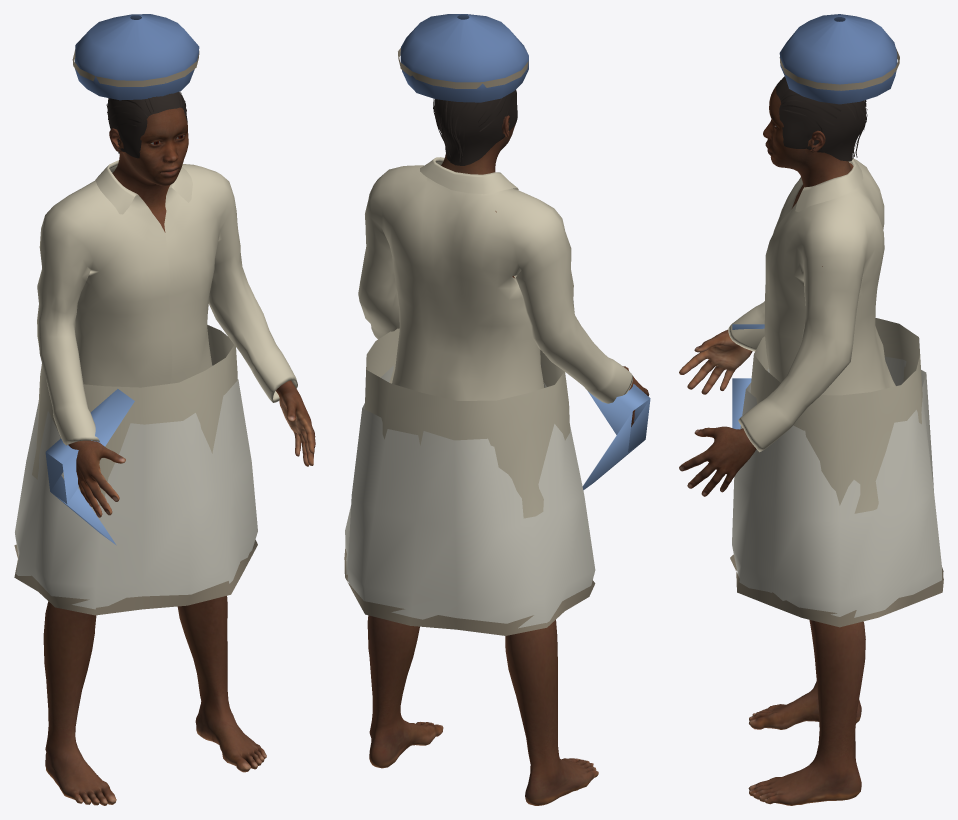
Rendered from village_weaver_assistant.glb.
3 renders of one model, left to right at view 1: azimuth 30°, elevation 25°; view 2: azimuth 150°, elevation 25°; view 3: azimuth 270°, elevation 25°, orthographic. The views are drawn at different scales.
Visible parts, largest first — view 1: Fitted cotton upper base_full_body_static, Knee length wrapped dhoti_full_body_static, village_weaver_assistant_MakeHuman_body_full_body_static, Soft cotton head wrap_full_body_static, Kurta loose lower panel_full_body_static, Weaver assistant folded cloth_full_body_static, Dhoti woven border_full_body_static, Farmer_hair_full_body_static, Head wrap fold_full_body_static; view 2: Fitted cotton upper base_full_body_static, Knee length wrapped dhoti_full_body_static, village_weaver_assistant_MakeHuman_body_full_body_static, Kurta loose lower panel_full_body_static, Soft cotton head wrap_full_body_static, Farmer_hair_full_body_static, Weaver assistant folded cloth_full_body_static, Dhoti woven border_full_body_static, Head wrap fold_full_body_static; view 3: Knee length wrapped dhoti_full_body_static, Fitted cotton upper base_full_body_static, village_weaver_assistant_MakeHuman_body_full_body_static, Kurta loose lower panel_full_body_static, Soft cotton head wrap_full_body_static, Farmer_hair_full_body_static, Dhoti woven border_full_body_static, Head wrap fold_full_body_static, Weaver assistant folded cloth_full_body_static.
Part boxes in pixels (bbox=[...]): Fitted cotton upper base_full_body_static: bbox=[37, 160, 297, 445]; Knee length wrapped dhoti_full_body_static: bbox=[15, 364, 257, 609]; village_weaver_assistant_MakeHuman_body_full_body_static: bbox=[43, 107, 315, 805]; Soft cotton head wrap_full_body_static: bbox=[75, 14, 199, 100]; Kurta loose lower panel_full_body_static: bbox=[32, 325, 237, 505]; Weaver assistant folded cloth_full_body_static: bbox=[45, 389, 134, 545]; Dhoti woven border_full_body_static: bbox=[14, 540, 257, 615]; Farmer_hair_full_body_static: bbox=[106, 91, 188, 158]; Head wrap fold_full_body_static: bbox=[72, 49, 199, 86]; Fitted cotton upper base_full_body_static: bbox=[358, 157, 632, 403]; Knee length wrapped dhoti_full_body_static: bbox=[345, 365, 595, 628]; village_weaver_assistant_MakeHuman_body_full_body_static: bbox=[367, 115, 649, 805]; Kurta loose lower panel_full_body_static: bbox=[364, 328, 569, 518]; Soft cotton head wrap_full_body_static: bbox=[400, 14, 528, 102]; Farmer_hair_full_body_static: bbox=[433, 90, 517, 165]; Weaver assistant folded cloth_full_body_static: bbox=[582, 384, 650, 490]; Dhoti woven border_full_body_static: bbox=[344, 548, 595, 635]; Head wrap fold_full_body_static: bbox=[398, 48, 528, 88]; Knee length wrapped dhoti_full_body_static: bbox=[732, 356, 941, 617]; Fitted cotton upper base_full_body_static: bbox=[728, 158, 895, 452]; village_weaver_assistant_MakeHuman_body_full_body_static: bbox=[679, 86, 865, 805]; Kurta loose lower panel_full_body_static: bbox=[750, 317, 922, 513]; Soft cotton head wrap_full_body_static: bbox=[779, 14, 897, 104]; Farmer_hair_full_body_static: bbox=[776, 76, 867, 161]; Dhoti woven border_full_body_static: bbox=[730, 554, 943, 627]; Head wrap fold_full_body_static: bbox=[779, 48, 899, 90]; Weaver assistant folded cloth_full_body_static: bbox=[732, 324, 764, 429].
Size of the model in its own units: 0.5819 by 1.67 by 0.5417.
Materials: 8 (2 with a texture image).
